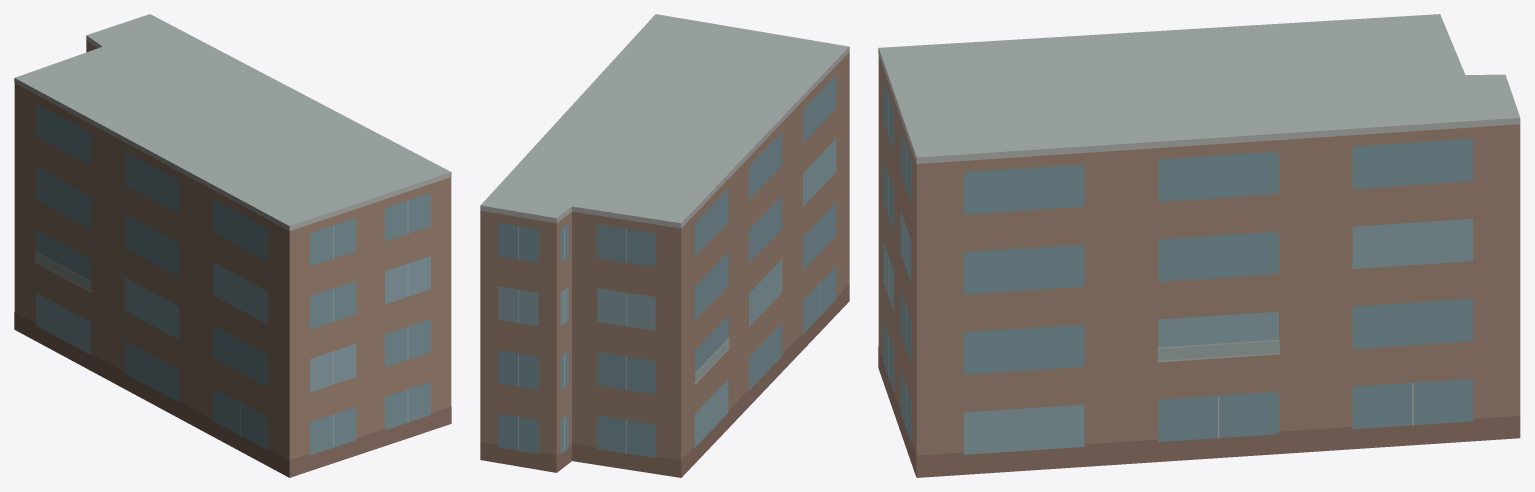
The model's file is survey-upis-32487285.glb.
The picture shows the model from 3 angles, left to right: view 1: azimuth 30°, elevation 25°; view 2: azimuth 150°, elevation 25°; view 3: azimuth 270°, elevation 25°; orthographic projection. The views are drawn at different scales.
Visible parts, largest first — view 1: survey-upis-32487285.tmp; view 2: survey-upis-32487285.tmp; view 3: survey-upis-32487285.tmp.
Boxes of the visible parts, <box> form: survey-upis-32487285.tmp: <box>14,14,451,477</box>; survey-upis-32487285.tmp: <box>480,14,849,477</box>; survey-upis-32487285.tmp: <box>878,14,1520,477</box>.
Size of the model in its own units: 11.74 by 12.2 by 22.17.
